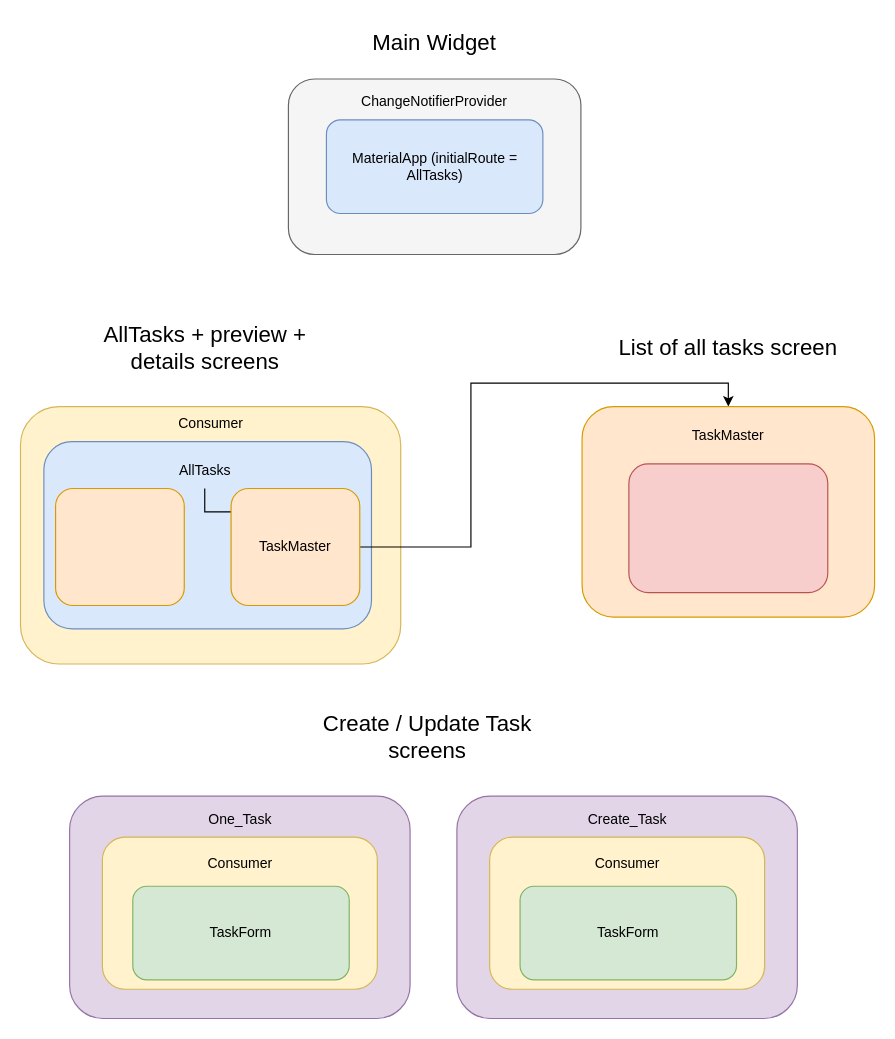
This 895x1039 diagram has some shape labels left out. Here are the shapes that lost their labels. From the top down, the centre of each, then its label:
point (119, 546): TaskDetails
point (728, 528): TaskPreview : call TasksCollection() (2x times)
